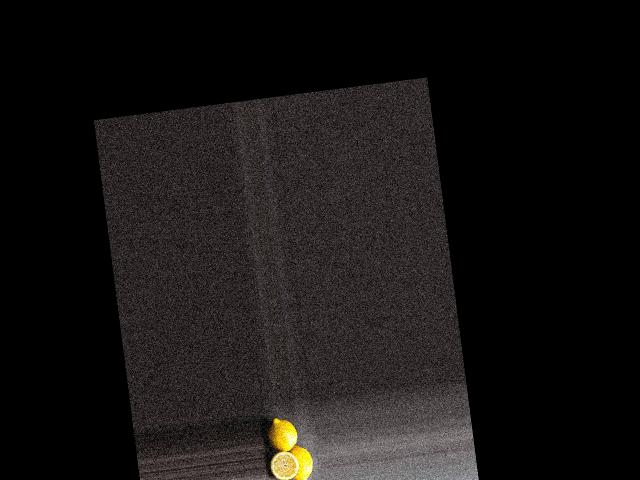lemon: (285, 442, 318, 480)
